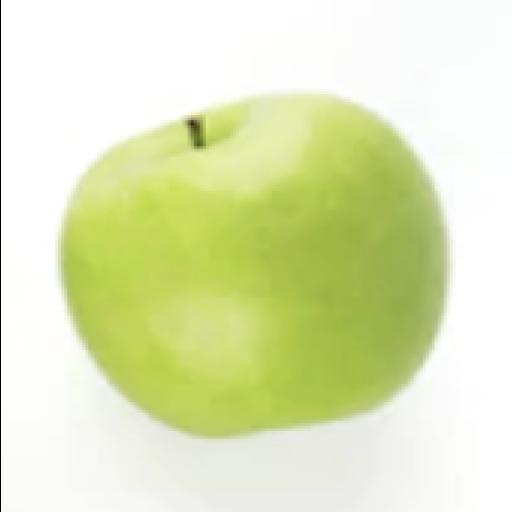apple: (64, 95, 445, 436)
